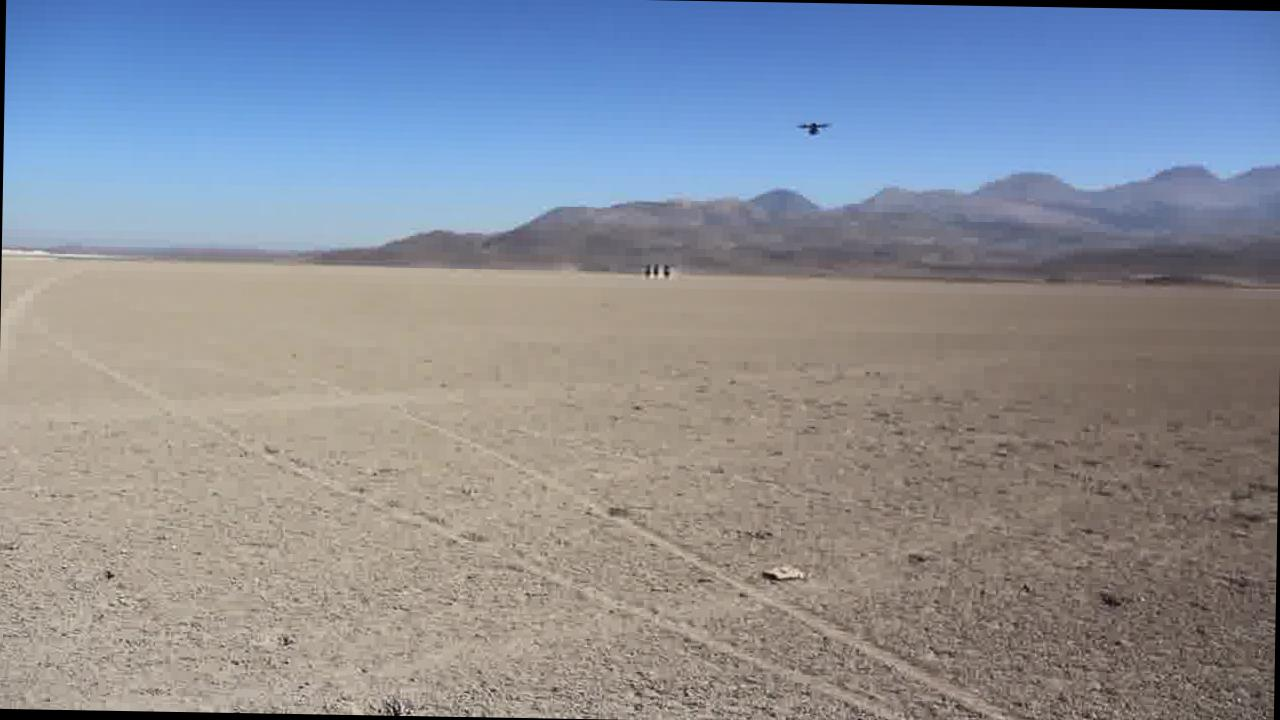drone: (791, 112, 833, 139)
